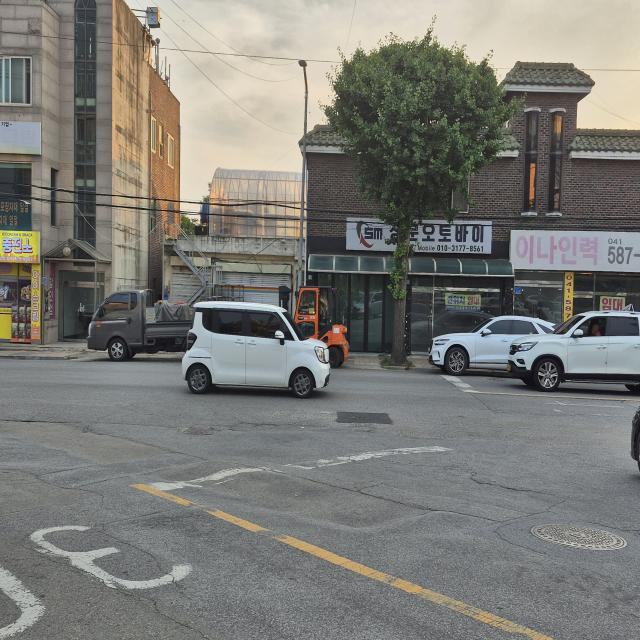car: (180, 291, 338, 399), (510, 309, 640, 396), (88, 276, 207, 362), (244, 278, 349, 368), (427, 314, 555, 376)
